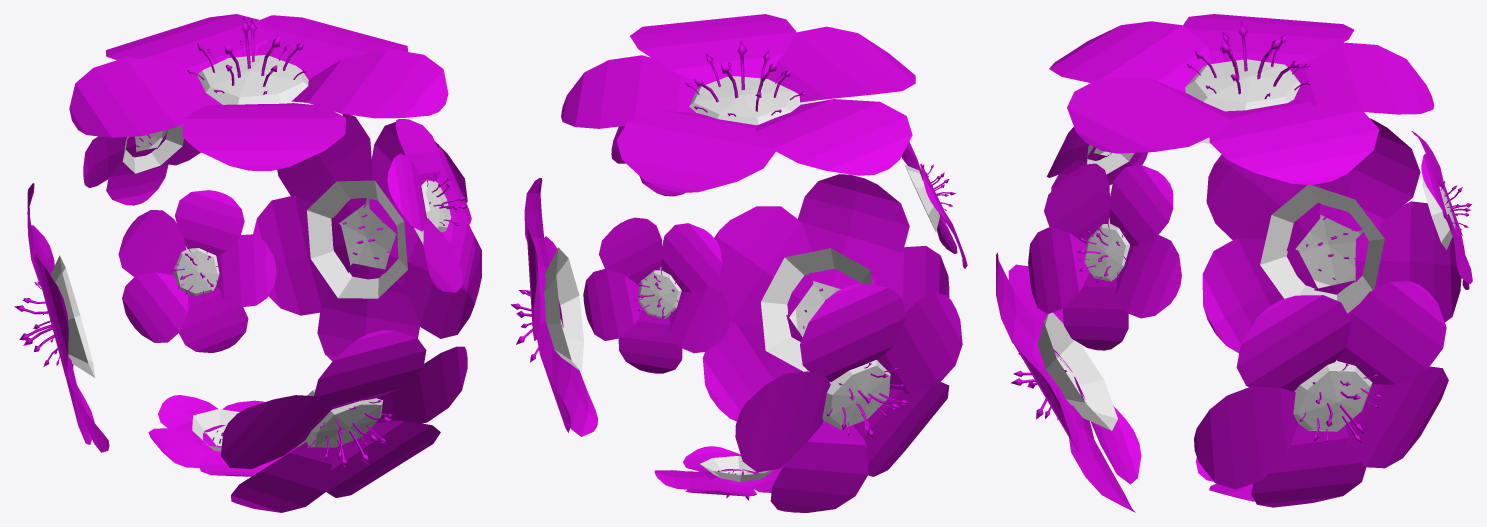
File: PinkFlowersForBall.fbx
The picture shows the model from 3 angles, left to right: view 1: azimuth 30°, elevation 25°; view 2: azimuth 150°, elevation 25°; view 3: azimuth 270°, elevation 25°; orthographic projection. The views are drawn at different scales.
Visible parts, largest first — view 1: Plane.007; view 2: Plane.007; view 3: Plane.007.
Part boxes in pixels (bbox=[...]): Plane.007: bbox=[14, 14, 481, 512]; Plane.007: bbox=[511, 14, 967, 512]; Plane.007: bbox=[996, 14, 1472, 512].
Size of the model in its own units: 217 by 220 by 207.
